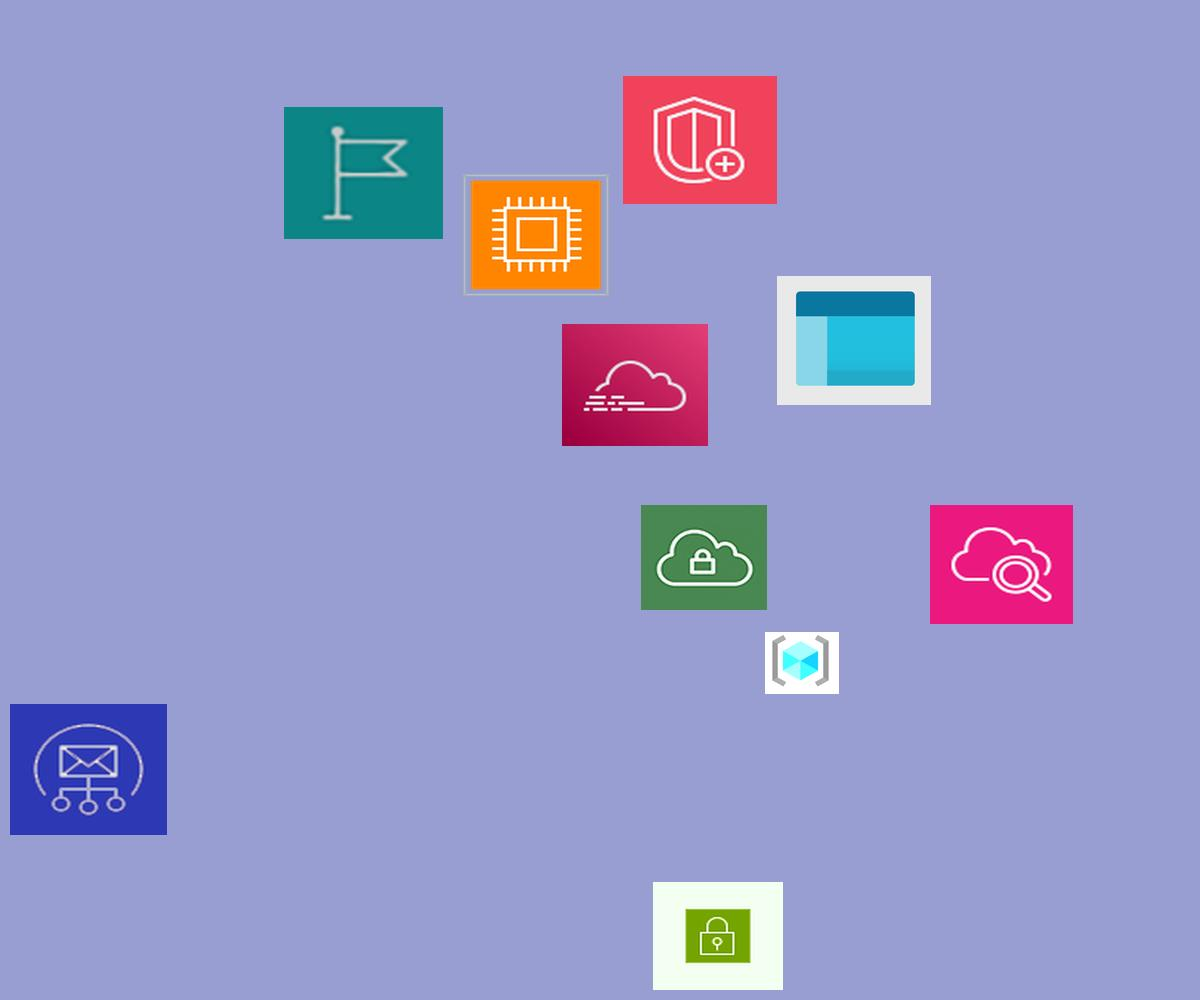AWS-Category_Compute: (463, 174, 609, 296)
AWS-CloudTrail: (562, 324, 708, 446)
AWS-CloudWatch: (930, 505, 1073, 624)
AWS-Private_vpc: (641, 505, 767, 610)
AWS-Public-subnet: (653, 882, 783, 990)
AWS-Region: (284, 107, 443, 239)
AWS-Shield: (623, 76, 777, 204)
AWS-Simple-Email-Service: (10, 704, 167, 835)
Azure_management-portal: (777, 276, 931, 405)
Azure_resource_group: (765, 632, 839, 694)
